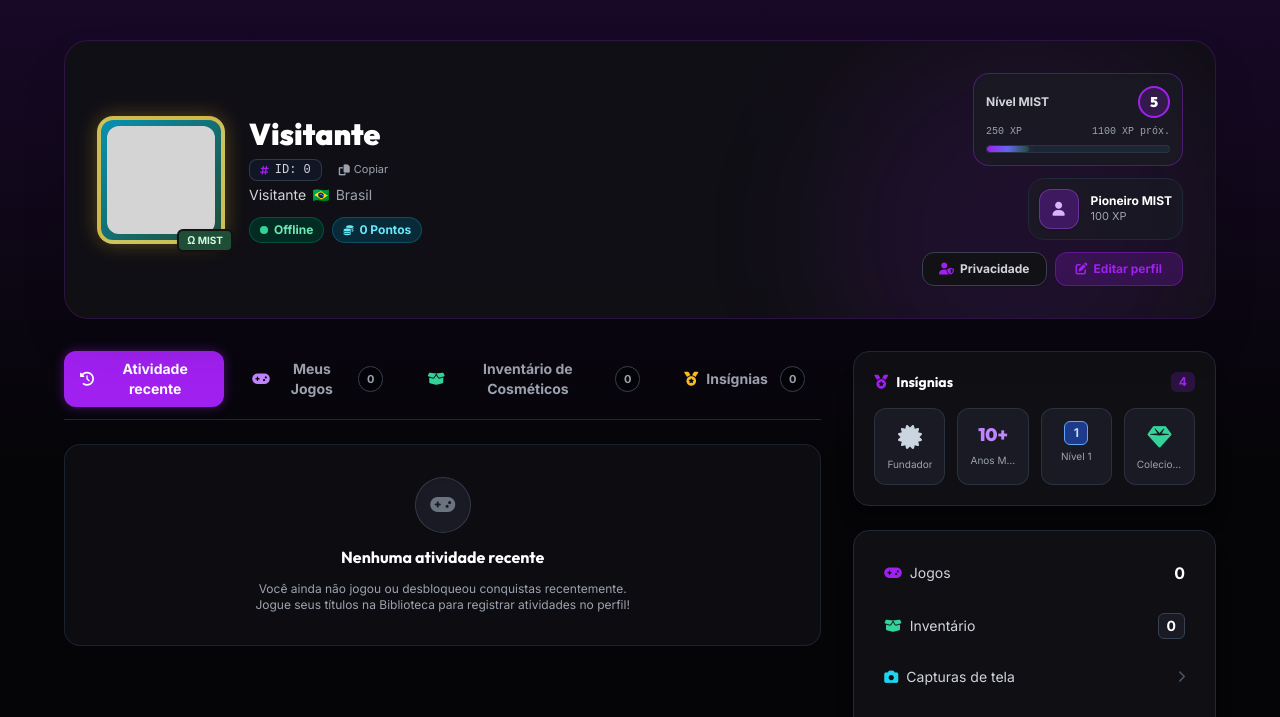
Scenario: Profile Page Workshop Integration (Ticket O-06) › exibe a barra de XP progressivo no header e a aba de insígnias craftadas (K-06 & K-07)
The width and height of the screenshot is (1280, 717).
Expected: the element with test id "profile-xp-header" is shown, [973, 73, 1183, 166]
Expected: the text "Nível MIST" is shown, [986, 94, 1049, 110]
Click the button with test id "profile-tab-badges" at (745, 379), box [668, 358, 821, 400]
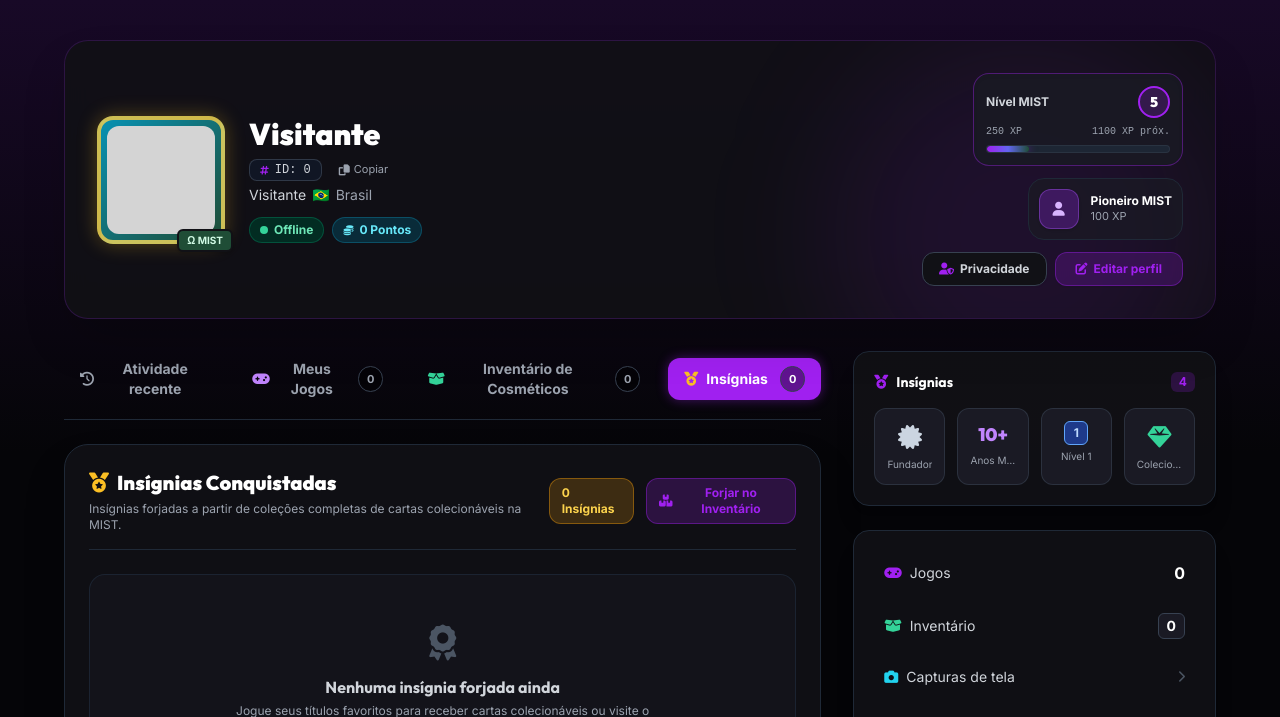
Expected: the heading "Insígnias Conquistadas" is shown, [89, 470, 336, 495]
